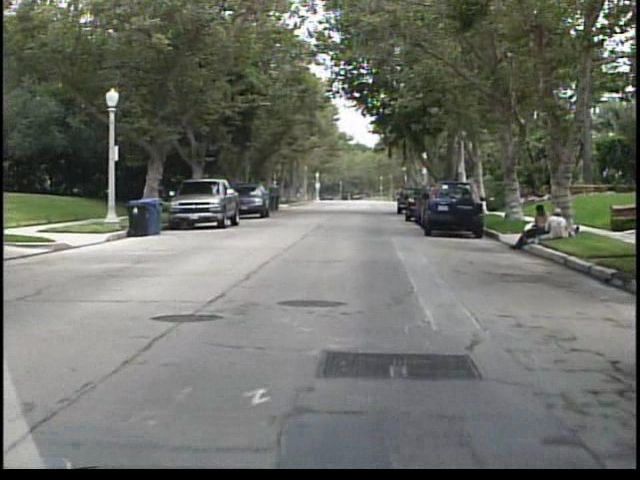person: (513, 202, 555, 252), (542, 206, 569, 237)
